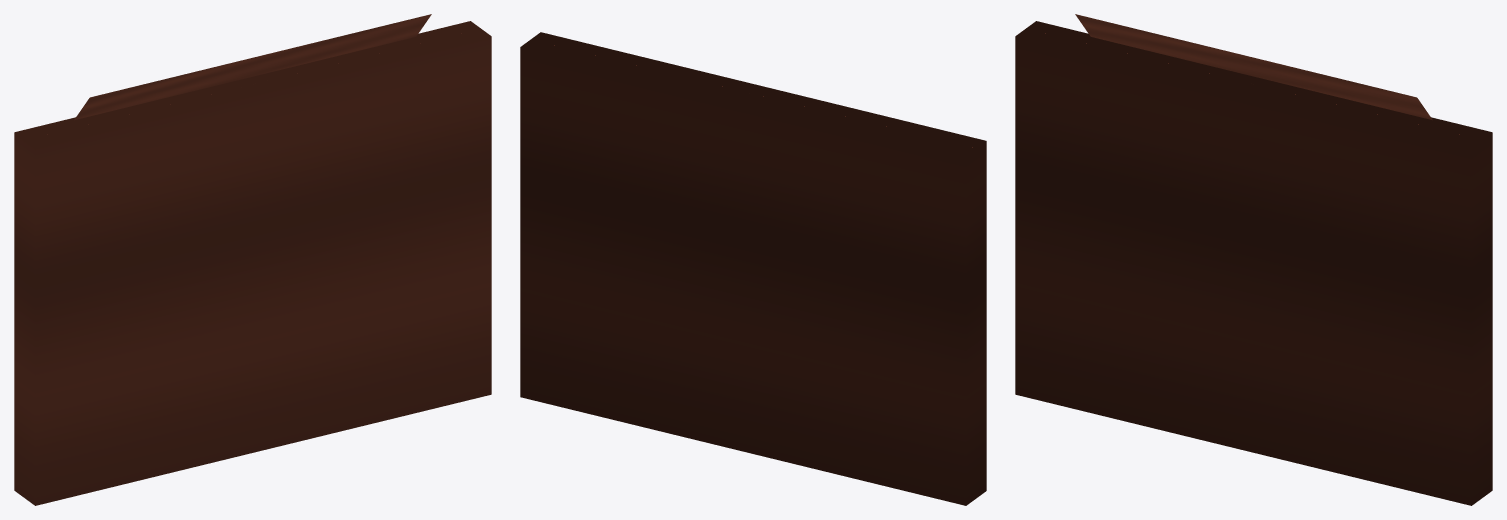
The model's file is env_wall_brick_4m.glb.
3 views of the same model, side by side, from view 1: azimuth 30°, elevation 25°; view 2: azimuth 150°, elevation 25°; view 3: azimuth 330°, elevation 25° (orthographic). The views are drawn at different scales.
Parts seen in each view (by area): view 1: env_wall_brick_4m; view 2: env_wall_brick_4m; view 3: env_wall_brick_4m.
Boxes of the visible parts, x1,y1,x2,y2 form: env_wall_brick_4m: [14, 14, 491, 505]; env_wall_brick_4m: [520, 32, 986, 505]; env_wall_brick_4m: [1015, 14, 1492, 505].
Size of the model in its own units: 4 by 3.29 by 0.32.
1 material, 1 textured.
